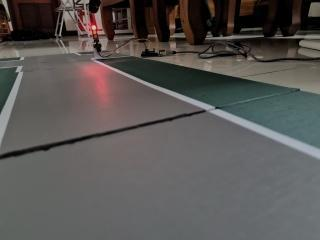red: (89, 22, 102, 46)
